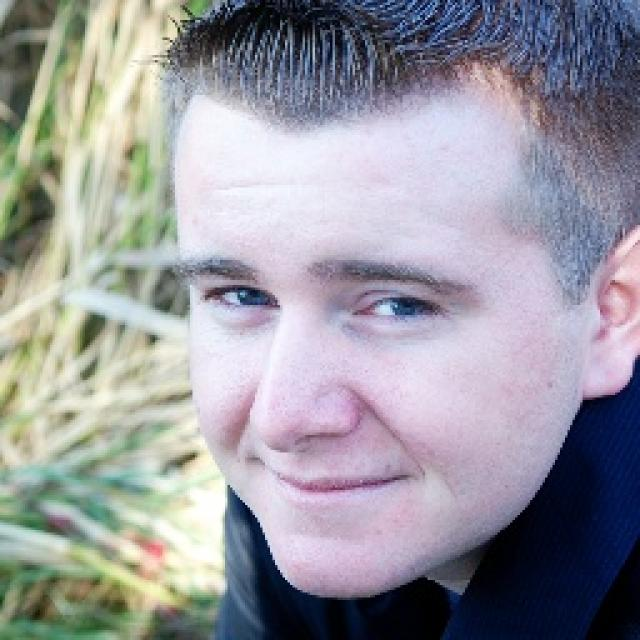earlobe: (580, 342, 632, 399)
eye: (351, 295, 439, 323), (206, 284, 278, 312)
nose: (244, 418, 366, 502)
wholeear: (580, 224, 640, 398)
